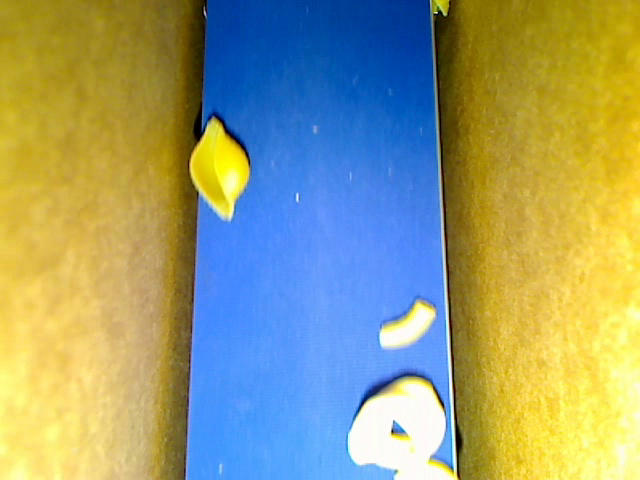elbow: (377, 300, 436, 348)
shell: (188, 115, 250, 222)
tortellini: (347, 374, 446, 468)
